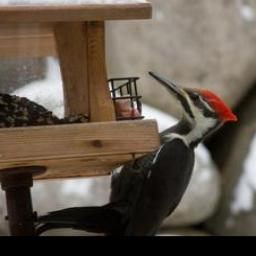Woodpecker: (24, 71, 251, 235)
